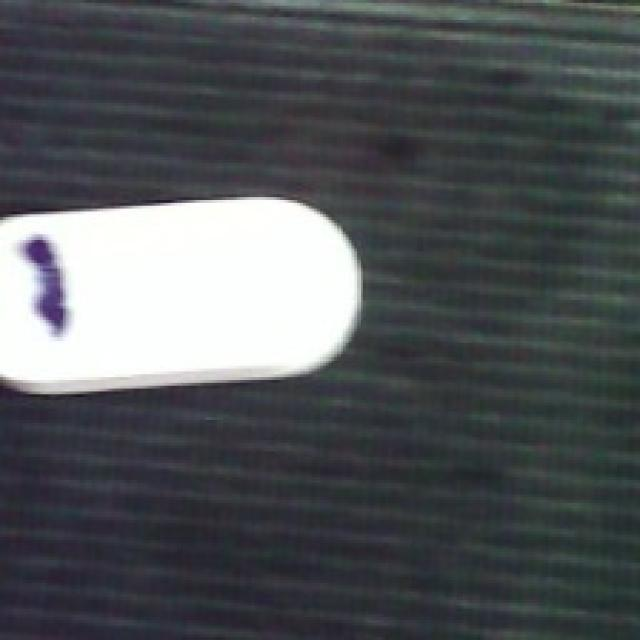defected: (0, 189, 369, 397)
